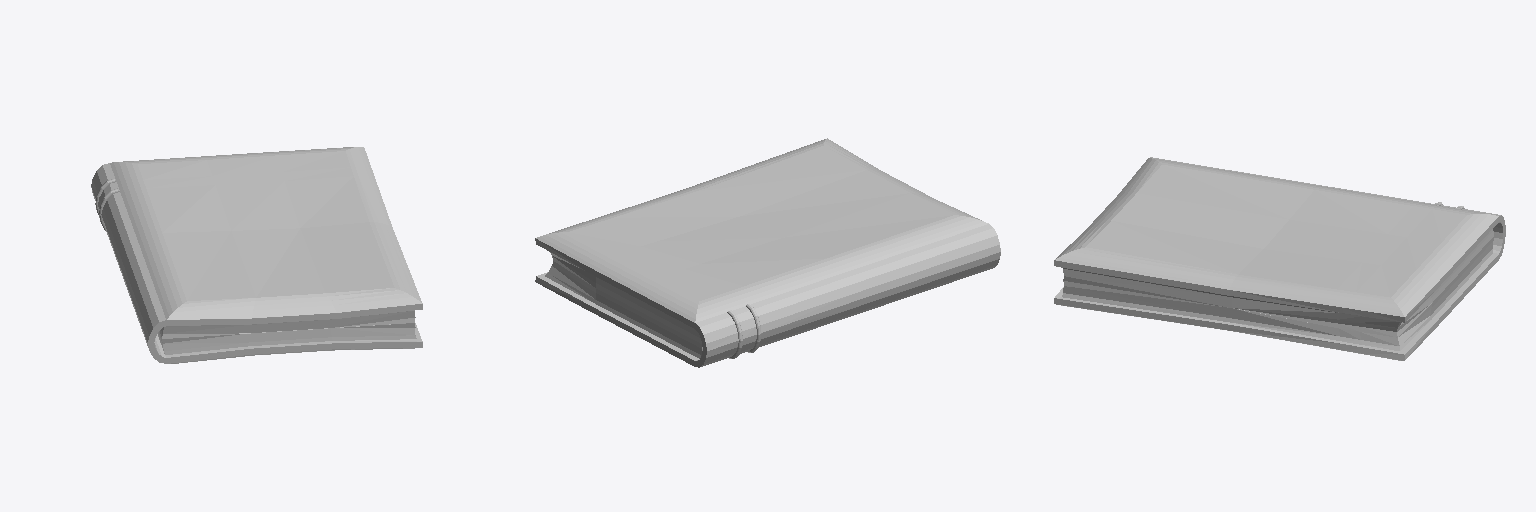
The model's file is SetA_Book_Style_05.obj.
3 views of the same model, side by side, from view 1: azimuth 30°, elevation 25°; view 2: azimuth 150°, elevation 25°; view 3: azimuth 270°, elevation 25° (orthographic).
Parts seen in each view (by area): view 1: SetA_Book_Style_05; view 2: SetA_Book_Style_05; view 3: SetA_Book_Style_05.
Part boxes in pixels (x1,y1,x2,y2): SetA_Book_Style_05: (91,147,422,363); SetA_Book_Style_05: (535,138,1000,367); SetA_Book_Style_05: (1054,157,1505,360).
Size of the model in its own units: 0.1019 by 0.0166 by 0.1169.